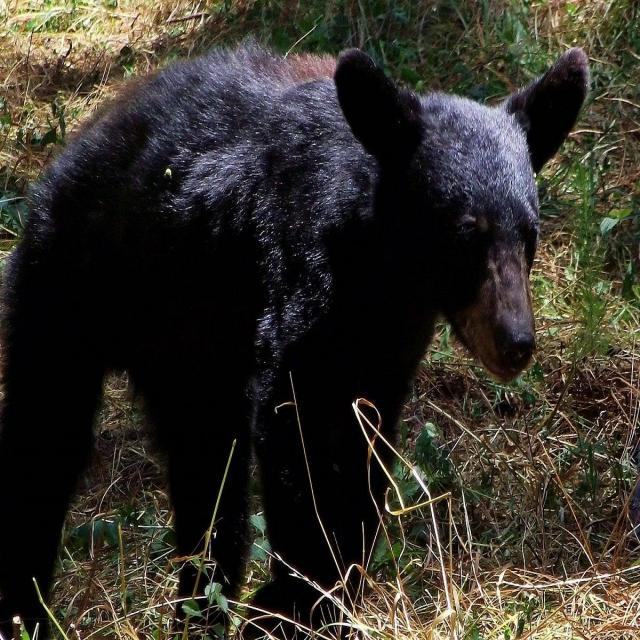Bear: (0, 44, 591, 640)
